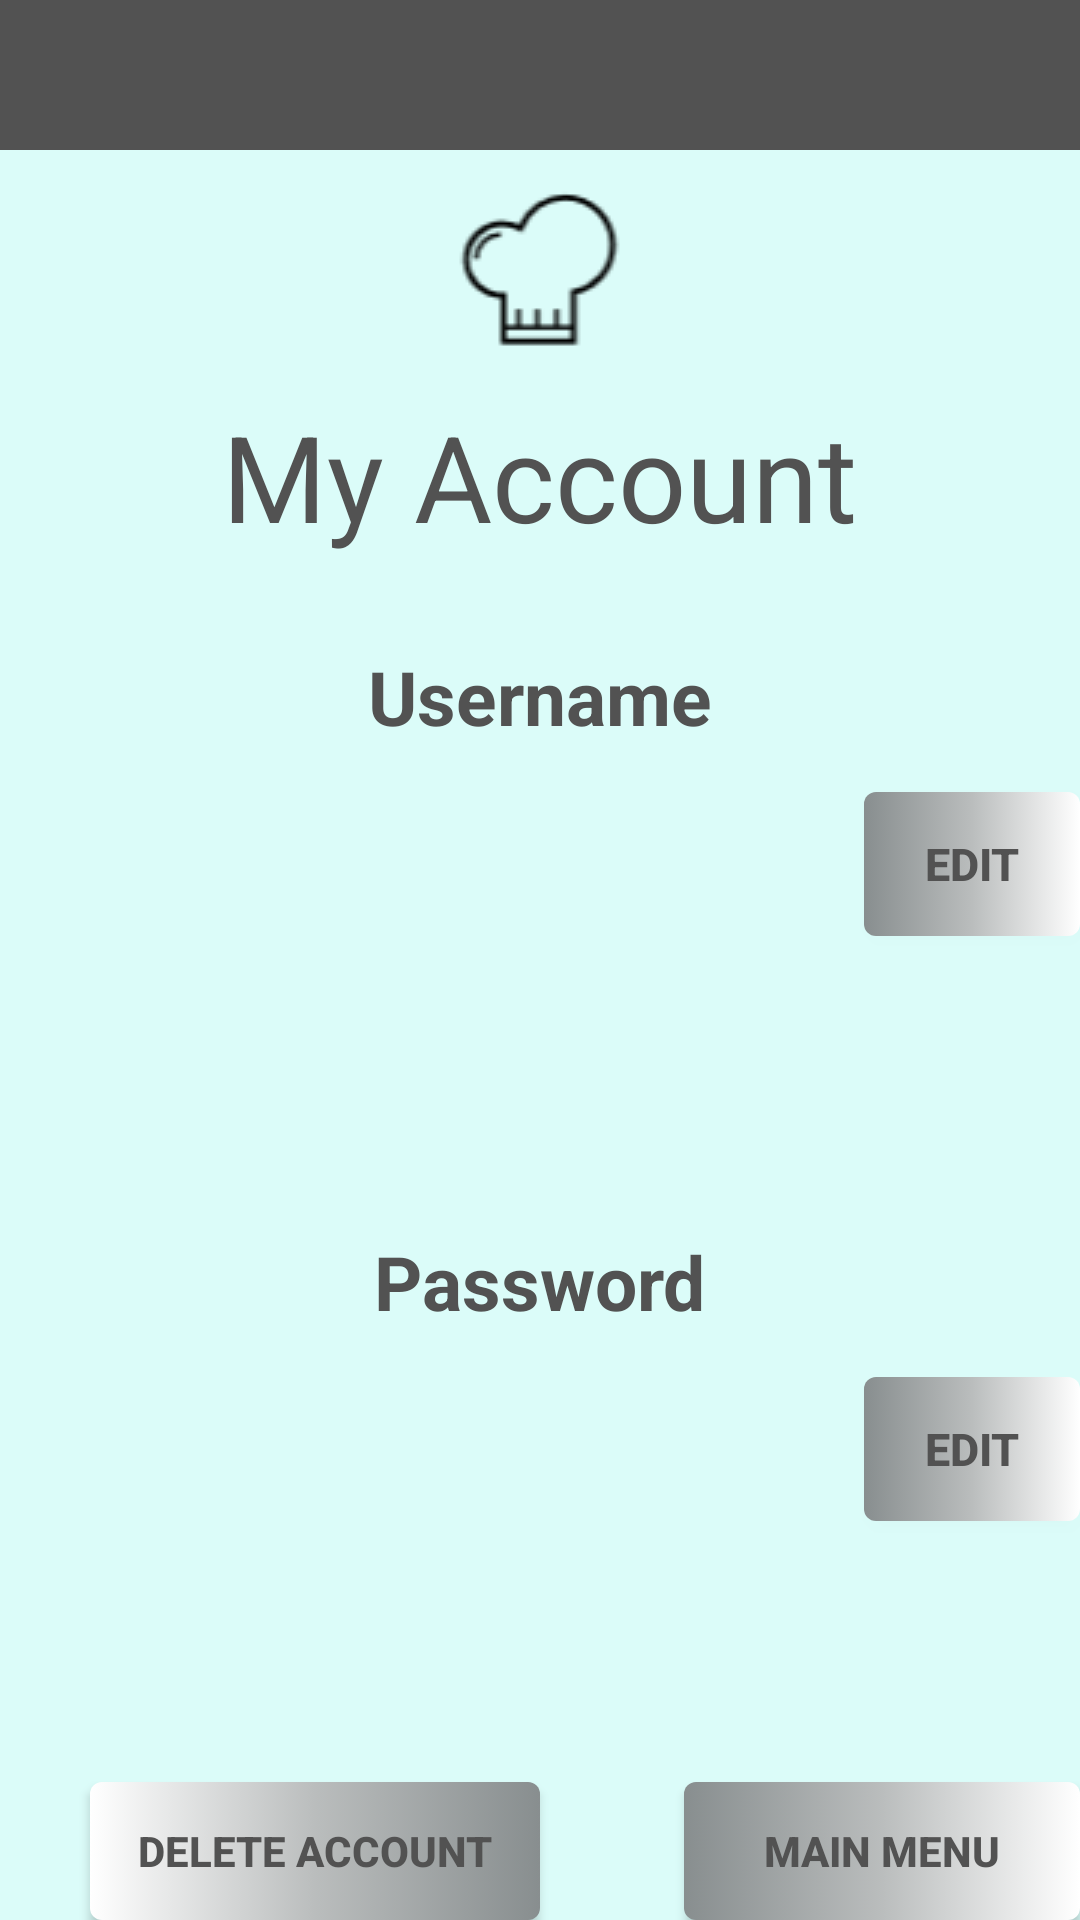

Icons on this 1080×1920 Android screen, each with the point to tap as [x,y]:
chef hat: [540,270]
